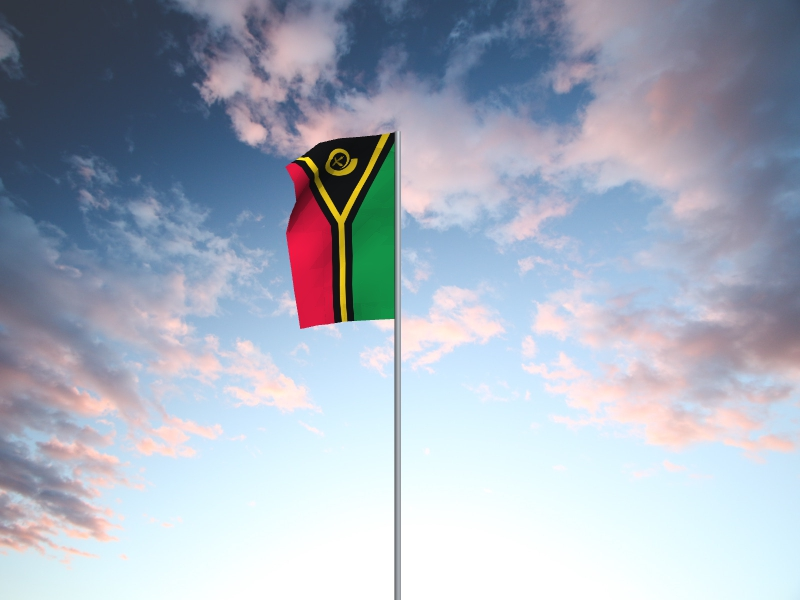vu: (285, 133, 396, 330)
